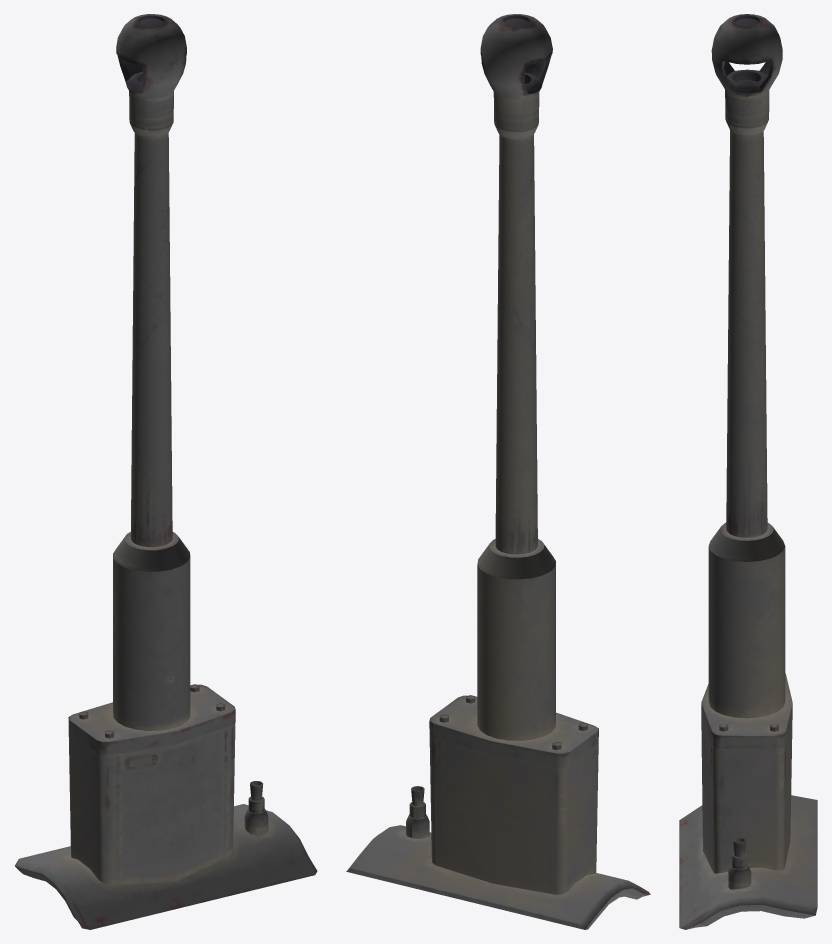
The model's file is Gun_06.glb.
The picture shows the model from 3 angles, left to right: view 1: azimuth 30°, elevation 25°; view 2: azimuth 150°, elevation 25°; view 3: azimuth 270°, elevation 25°; orthographic projection. The views are drawn at different scales.
Parts seen in each view (by area): view 1: set_0_group_0; view 2: set_0_group_0; view 3: set_0_group_0.
Part boxes in pixels (left/top/right/bottom): set_0_group_0: left=15, top=14, right=317, bottom=929; set_0_group_0: left=346, top=14, right=650, bottom=929; set_0_group_0: left=679, top=14, right=817, bottom=929.
Bounding box in the file's own units: 0.7848 × 2.73 × 0.4041.
1 material, 1 textured.
